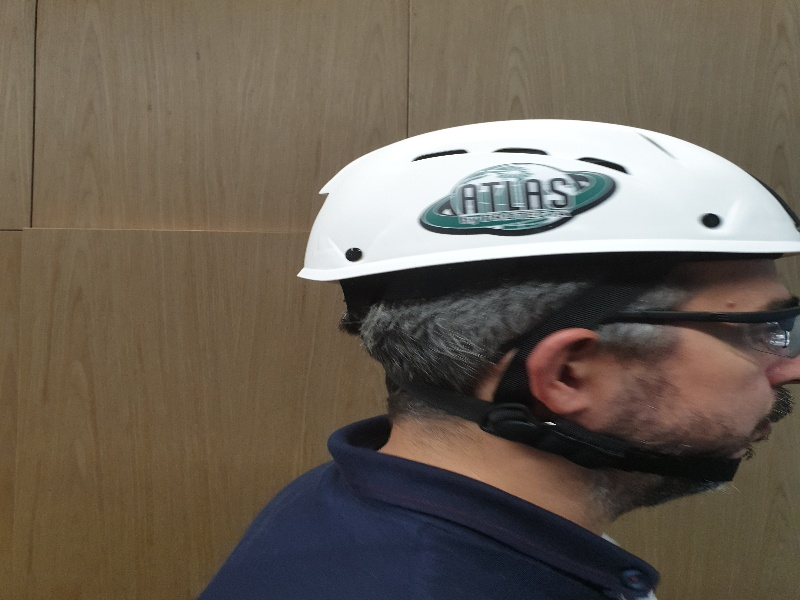Baret: (301, 117, 797, 271)
Gozluk: (606, 307, 800, 365)
